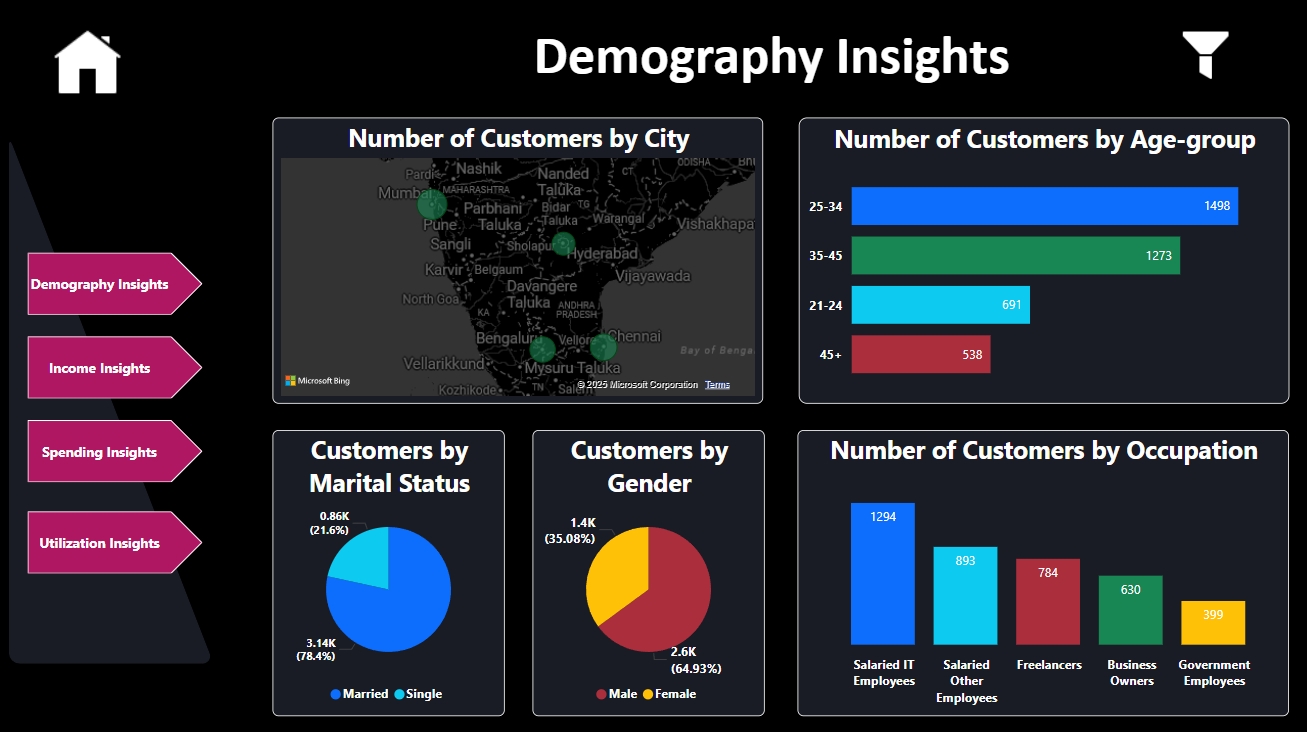

The page's visual inventory and layout, read from the dashboard file:
{"tool":"powerbi","page":{"name":"Demography Insights","canvas":[1280,720],"ordinal":1},"visuals":[{"type":"barChart","title":"Number of Customers by Age-group","fields":{"Category":["dim_customers.age_group"],"Y":["Count(dim_customers.customer_id)"]},"box":[780.8,114.3,480,280.3],"z":0},{"type":"shape","box":[8.6,132.1,200.5,517.3],"z":0,"group":"g1"},{"type":"map","title":"Number of Customers by City","fields":{"Size":["Count(dim_customers.customer_id)"],"Category":["dim_customers.city"]},"box":[266.6,114.9,480,280],"z":1000},{"type":"shape","box":[26.9,500.2,171.2,61.1],"z":1000,"group":"g1"},{"type":"shape","box":[26.9,410.9,171.2,61.1],"z":2000,"group":"g1"},{"type":"columnChart","title":"Number of Customers by Occupation","fields":{"Category":["dim_customers.occupation"],"Y":["CountNonNull(dim_customers.customer_id)"]},"box":[780.2,420.7,480.6,280],"z":2000},{"type":"shape","box":[26.9,329,171.2,61.1],"z":3000,"group":"g1"},{"type":"pieChart","title":"Customers by Marital Status","fields":{"Y":["Count(dim_customers.customer_id)"],"Category":["dim_customers.marital status"]},"box":[266.6,420.7,227,280],"z":3000},{"type":"shape","box":[26.9,247,171.2,61.1],"z":4000,"group":"g1"},{"type":"pieChart","title":"Customers by Gender","fields":{"Y":["Count(dim_customers.customer_id)"],"Category":["dim_customers.gender"]},"box":[520.9,420.7,227,280],"z":4000},{"type":"shape","box":[520.9,14.7,468.3,77],"z":5000},{"type":"image","box":[47.7,23.2,75.8,77],"z":6000},{"type":"image","box":[1149.5,23.2,59.9,61.1],"z":7000},{"type":"group","id":"g1","title":"Nav Panel","box":[8.6,132.1,200.5,517.3],"z":9000}]}

Visuals, with their boxes in screenshot pixels (x1, y1, x2, y2), scaled from the page's 1280x720 canvas onto the 1307x732 screenshot:
"Number of Customers by Age-group" barChart: 797:116:1287:401
shape: 9:134:214:660
"Number of Customers by City" map: 272:117:762:401
shape: 27:509:202:571
shape: 27:418:202:480
"Number of Customers by Occupation" columnChart: 797:428:1287:712
shape: 27:334:202:397
"Customers by Marital Status" pieChart: 272:428:504:712
shape: 27:251:202:313
"Customers by Gender" pieChart: 532:428:764:712
shape: 532:15:1010:93
image: 49:24:126:102
image: 1174:24:1235:86
"Nav Panel" group: 9:134:214:660
